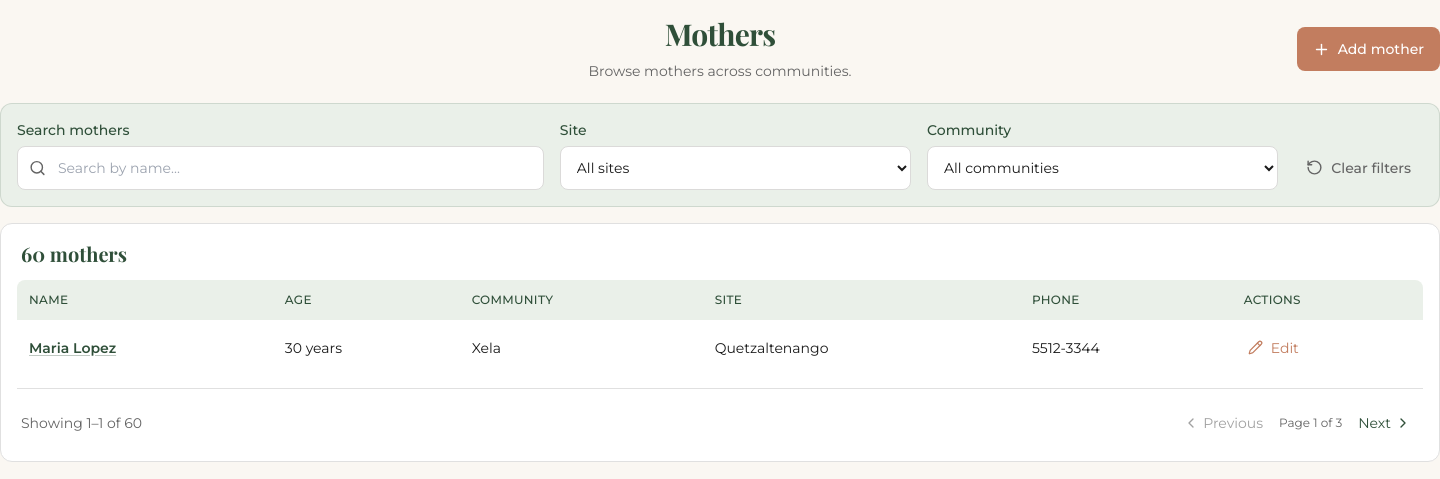
Test: MothersPage › clears search and location filters and returns to the first page
In the search field: (280, 168) top-left (17, 146), bottom-right (544, 190), type "Maria"
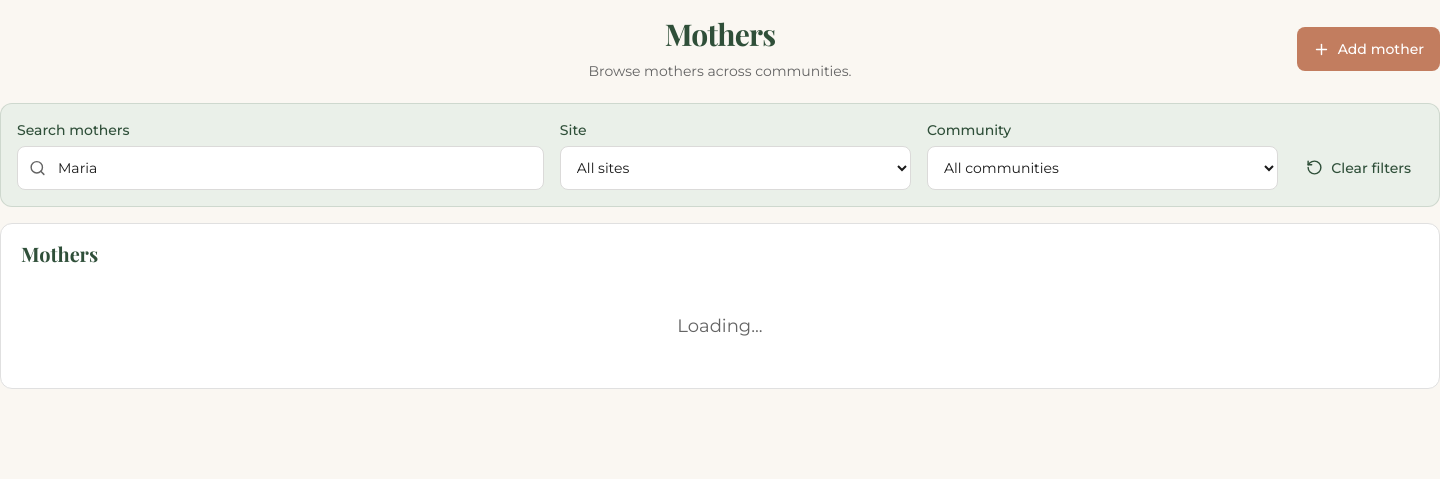
Select "Quetzaltenango" in the dropdown labelled "Site": (735, 168) top-left (560, 146), bottom-right (911, 190)
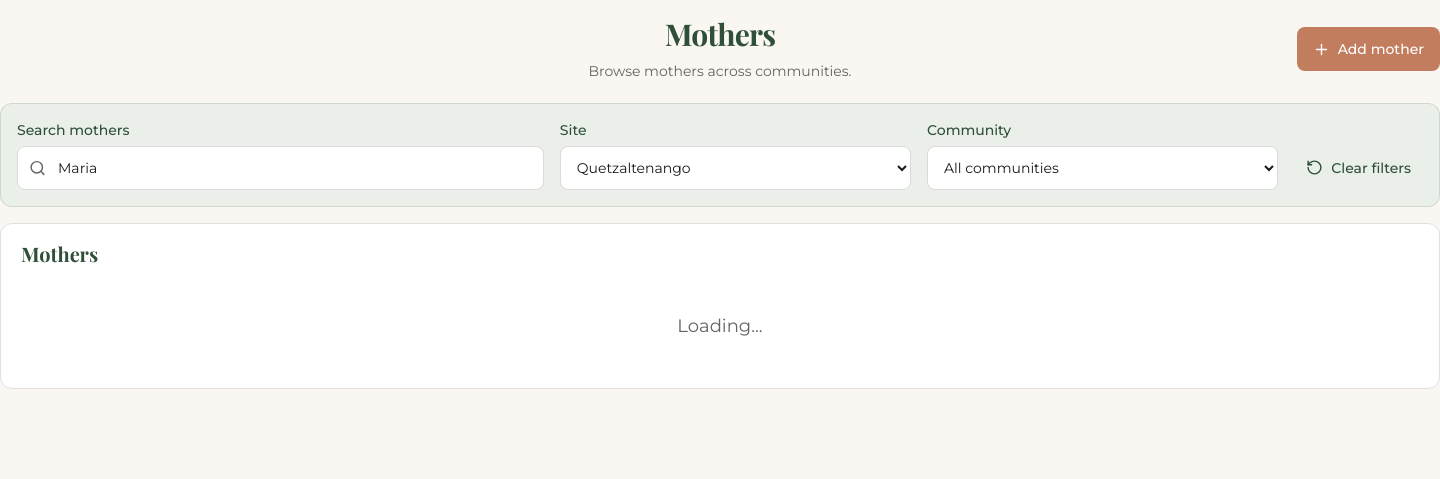
Select "Xela" in the dropdown labelled "Community": (1103, 168) top-left (927, 146), bottom-right (1278, 190)
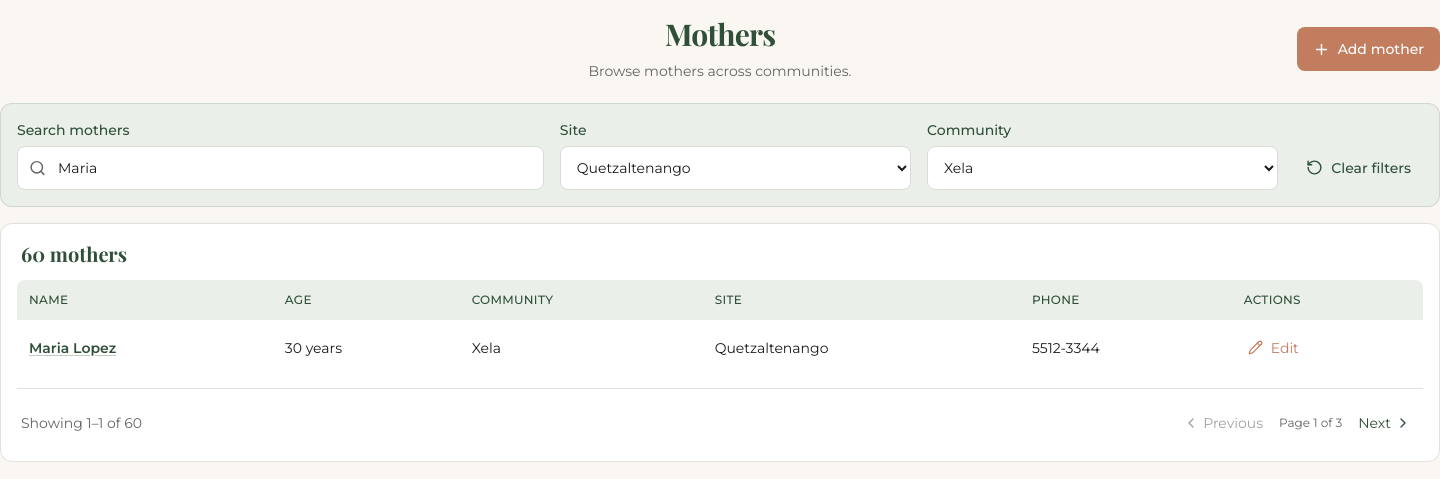
Click the button "Next": click(1385, 423) top-left (1350, 401), bottom-right (1419, 445)
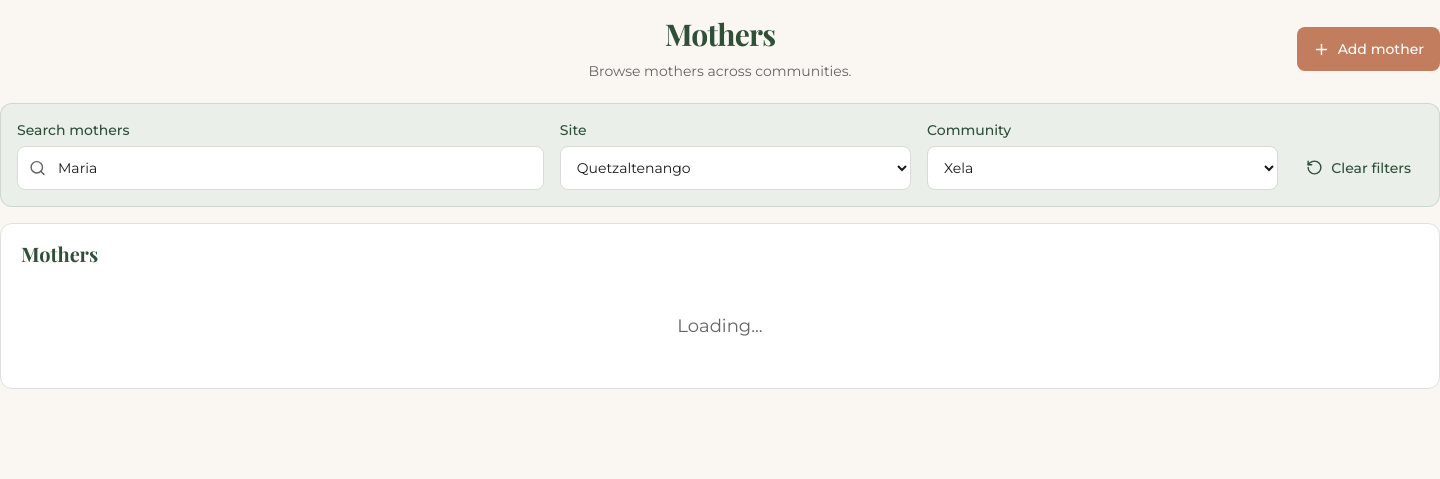
Click the button "Clear filters": click(1359, 168) top-left (1294, 146), bottom-right (1423, 190)
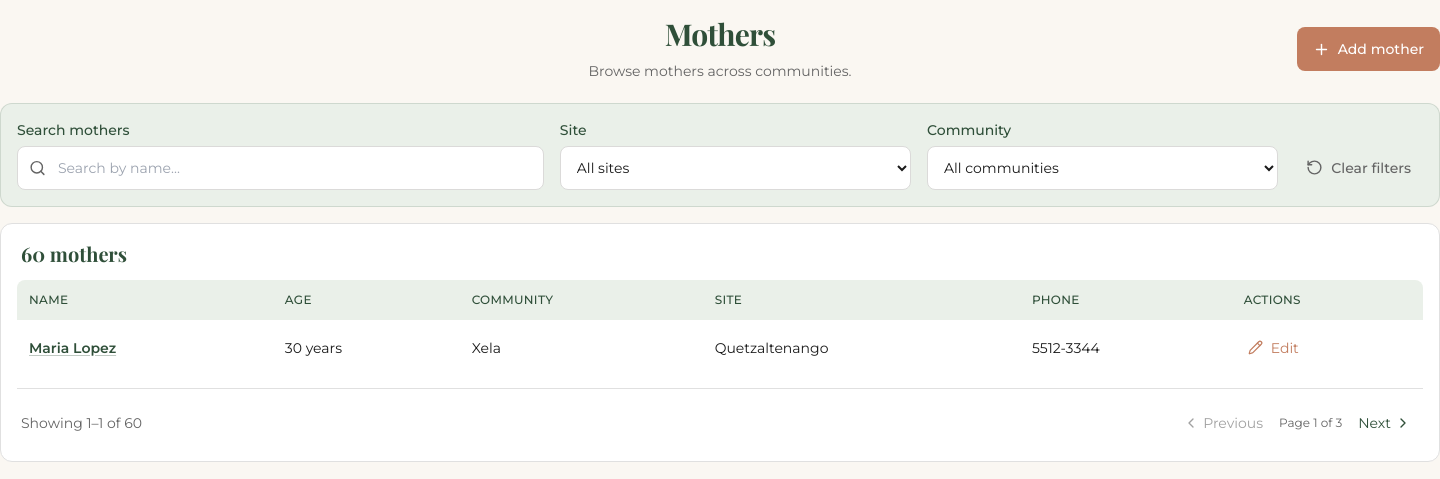
Expected: the search field is empty, top-left (17, 146), bottom-right (544, 190)
